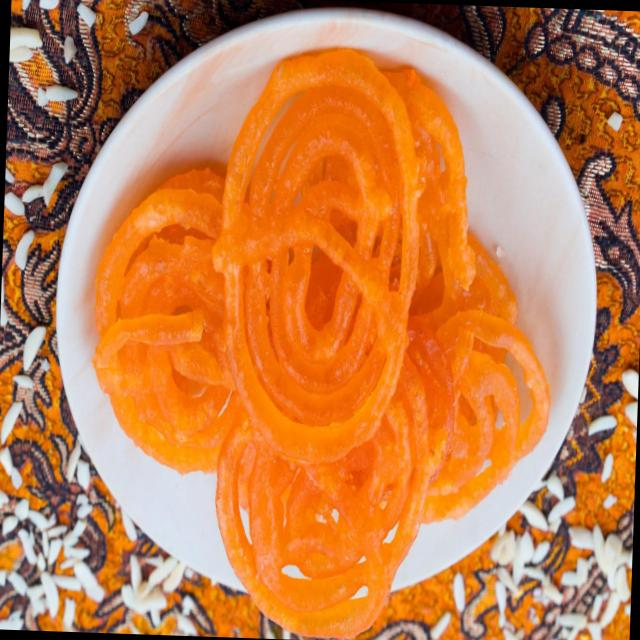jalebi: (82, 39, 588, 639)
